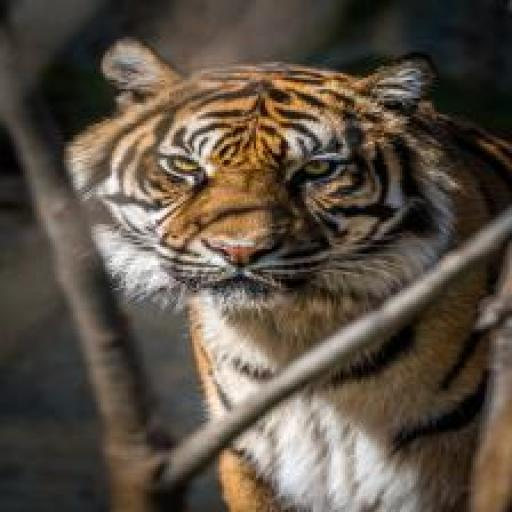Tiger: (61, 39, 512, 512)
